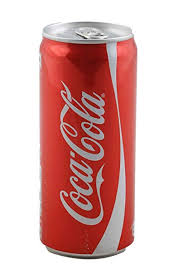coke-can: (38, 20, 142, 259)
